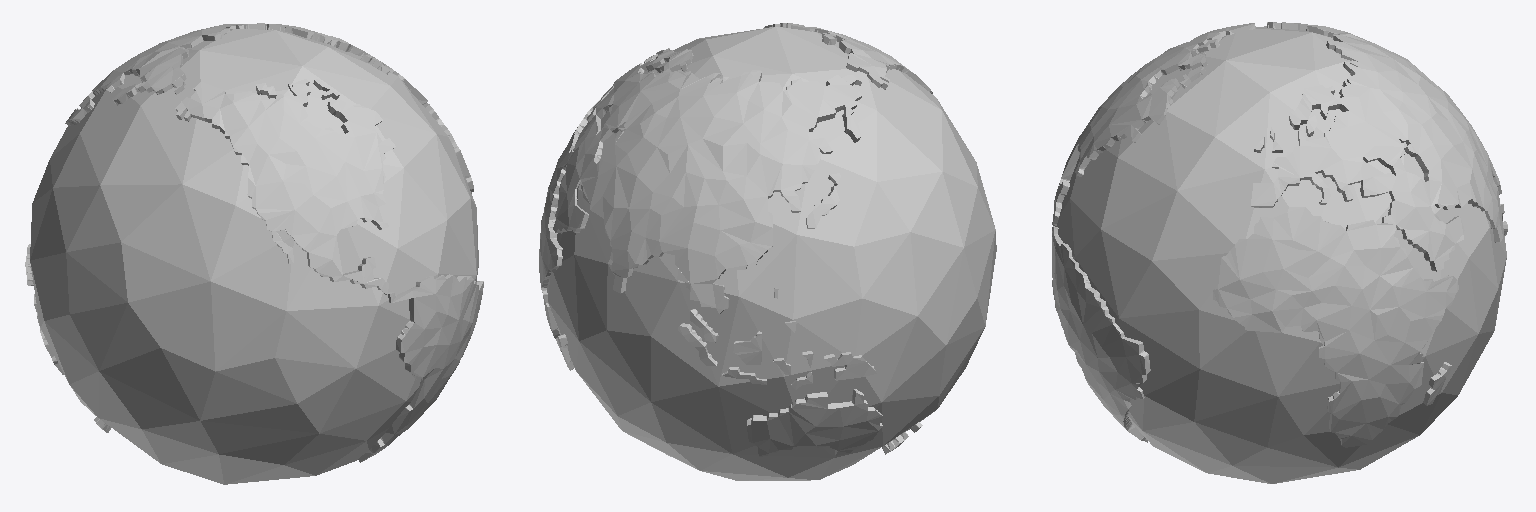
The picture shows the model from 3 angles: view 1: azimuth 30°, elevation 25°; view 2: azimuth 150°, elevation 25°; view 3: azimuth 270°, elevation 25°; orthographic projection.
Parts seen in each view (by area): view 1: Land_; view 2: Land_; view 3: Land_.
Part boxes in pixels (x1,y1,x2,y2): Land_: (25,23,483,484); Land_: (539,23,996,480); Land_: (1052,22,1507,483).
Size of the model in its own units: 1 by 1 by 1.